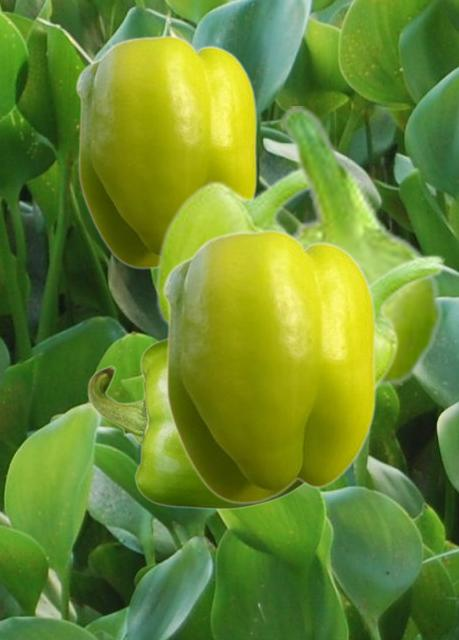bell_pepper: (162, 228, 375, 503), (271, 106, 443, 394), (75, 34, 256, 268), (87, 338, 303, 509), (154, 165, 307, 328), (369, 253, 445, 396)
